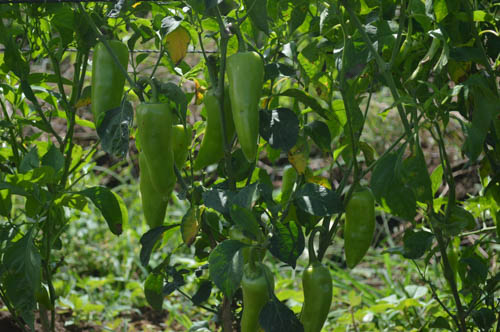ChiliPepper: (226, 52, 264, 165), (194, 83, 233, 183), (135, 101, 176, 190), (90, 41, 127, 133), (342, 192, 374, 275), (296, 265, 333, 332), (238, 265, 273, 332), (138, 149, 166, 231), (174, 124, 191, 175)
